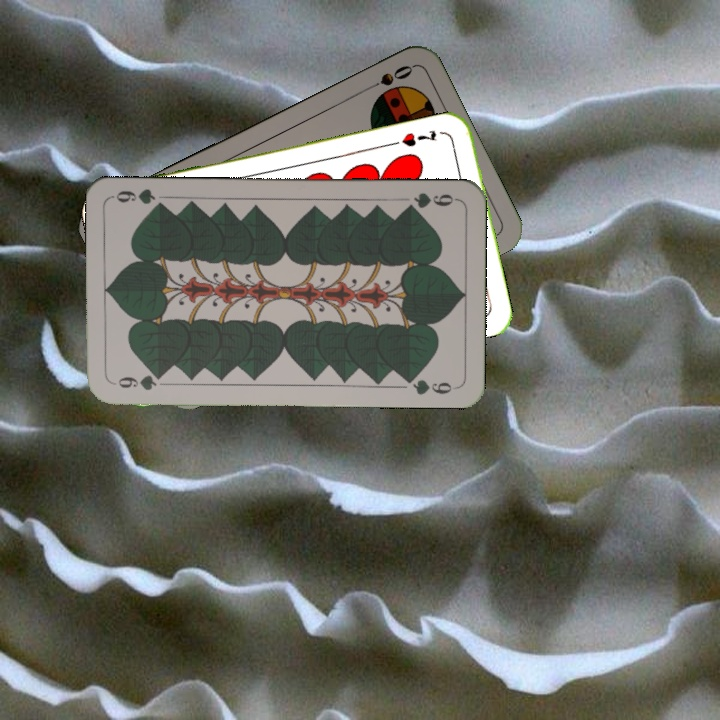G9: (401, 188, 460, 213), (109, 370, 168, 393)
H7: (397, 126, 439, 150)
SO: (360, 61, 416, 94)
